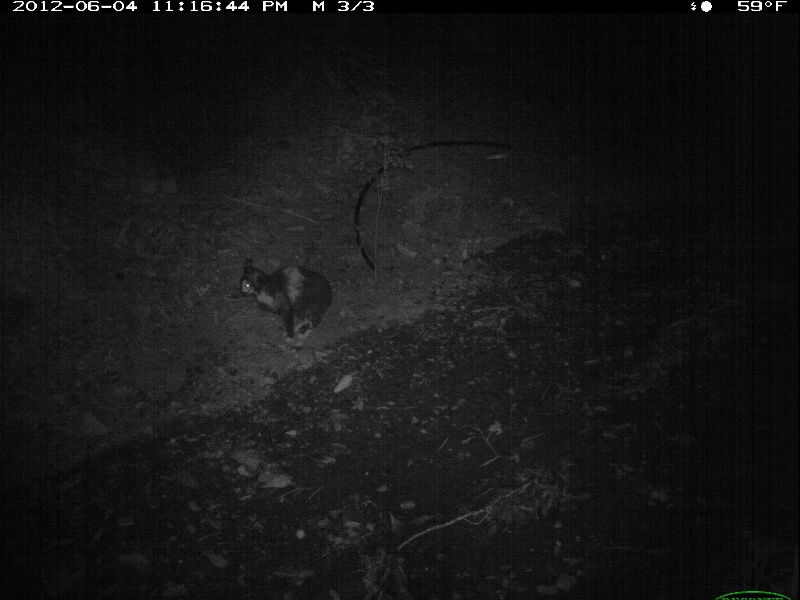cat: (236, 255, 334, 337)
